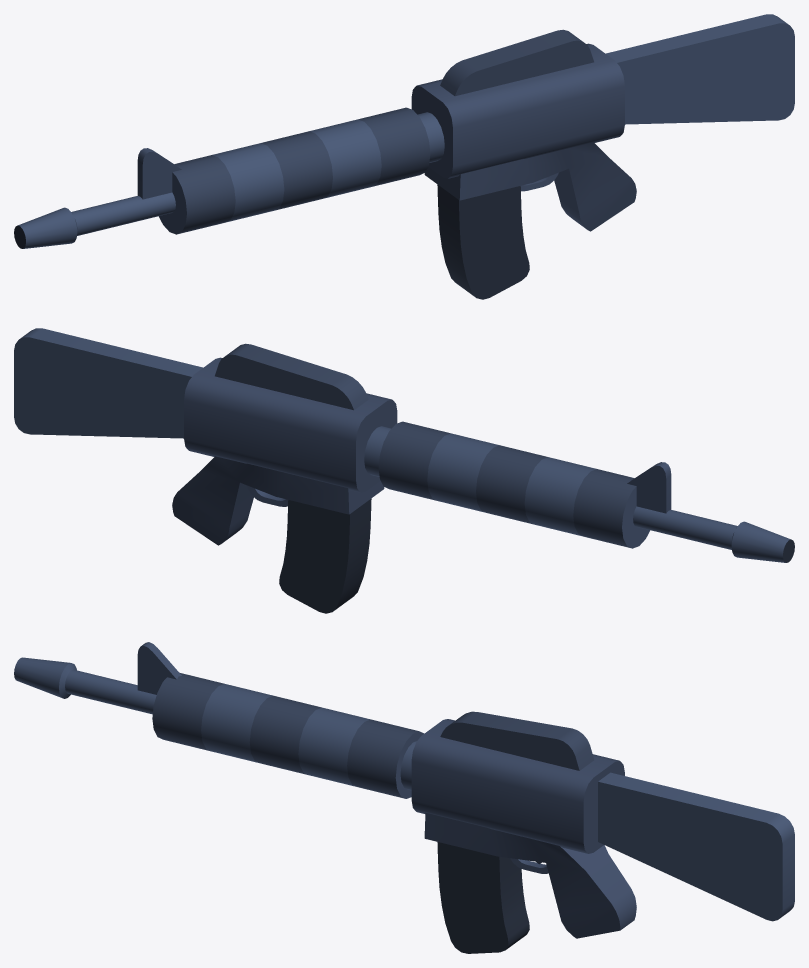
The model's file is Automat B.fbx.
The picture shows the model from 3 angles, top to bottom: view 1: azimuth 30°, elevation 25°; view 2: azimuth 150°, elevation 25°; view 3: azimuth 330°, elevation 25°; orthographic projection.
Parts seen in each view (by area): view 1: Automat B; view 2: Automat B; view 3: Automat B.
Boxes of the visible parts, <box> form: Automat B: <box>14,14,794,299</box>; Automat B: <box>14,328,794,613</box>; Automat B: <box>14,642,794,953</box>.
Bounding box in the file's own units: 2.18 × 0.6326 × 0.2036.
